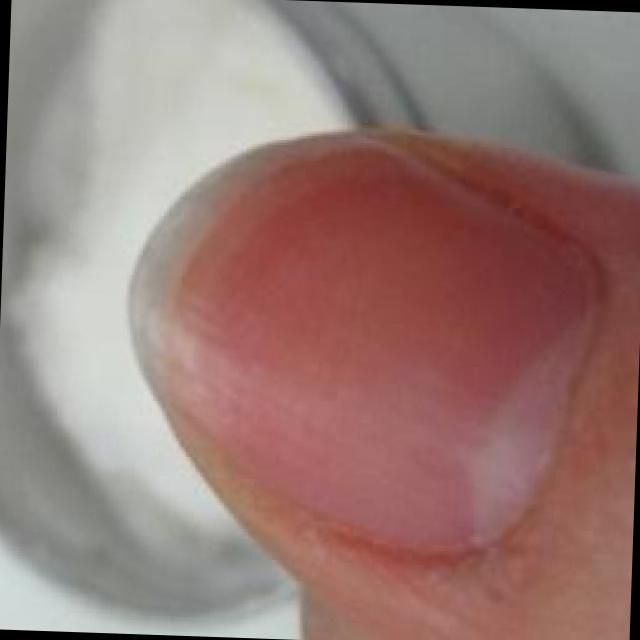Nail: (124, 133, 597, 553)
